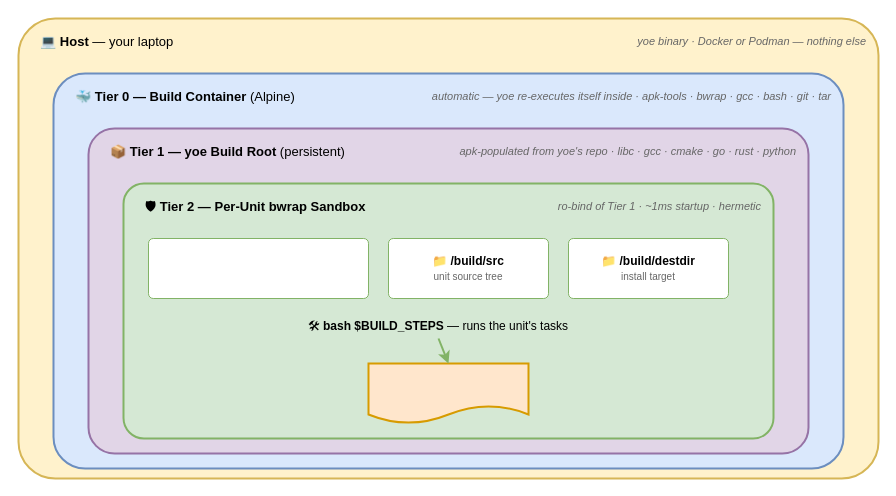
This 896x496 diagram has some shape labels left out. Here are the shapes that lost their labels. From the top down, the centre of each, then its label:
point (258, 268): 📁 /build/sysroot declared deps' headers + libs, read-only
point (448, 393): .apk artifact
